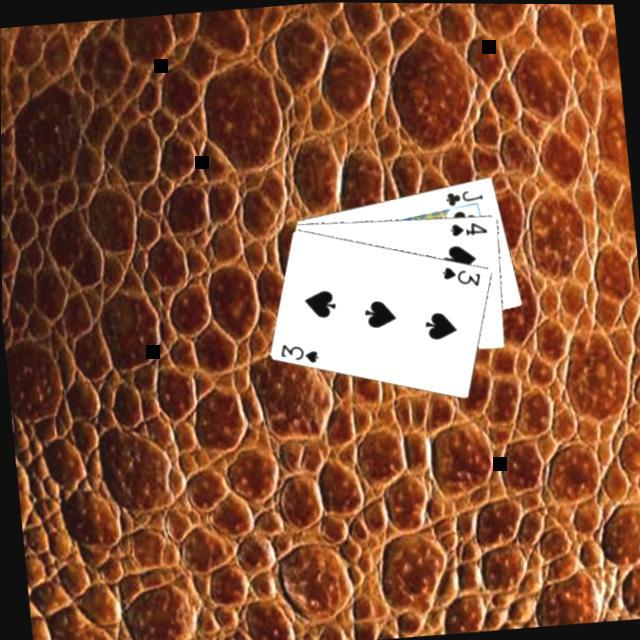3S: (276, 338, 322, 368), (440, 260, 484, 290)
4S: (448, 217, 490, 240)
JC: (442, 184, 486, 208)
